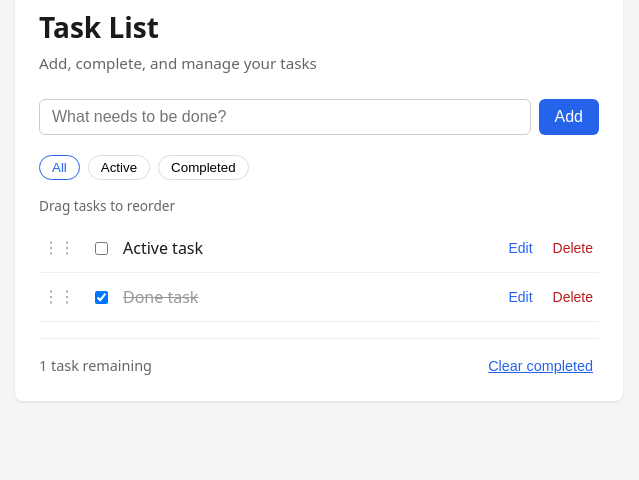
Test case: App › shows an error when deleting a task fails
The image size is (639, 480).
expect the text "Active task" is shown: met, box [123,237,203,259]
Click the button "Delete" in the row of "Active task". click: [573, 248]
box: [546,239,599,257]
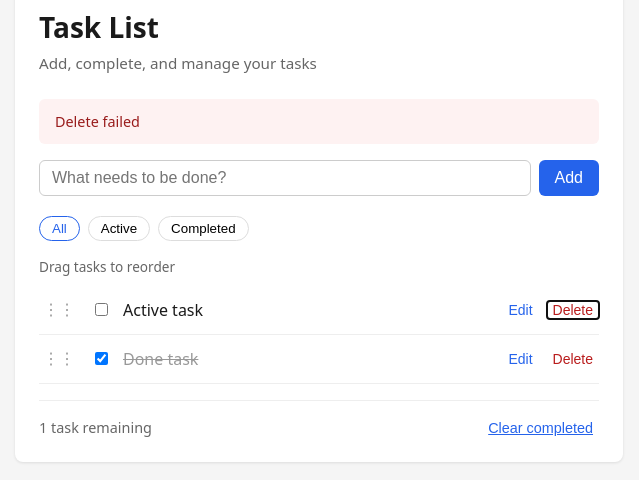
expect the text "Active task" is shown: met, box [123,299,203,321]
expect the message reads "Delete failed": met, box [55,112,140,131]
